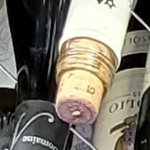bottle: (36, 31, 127, 134)
